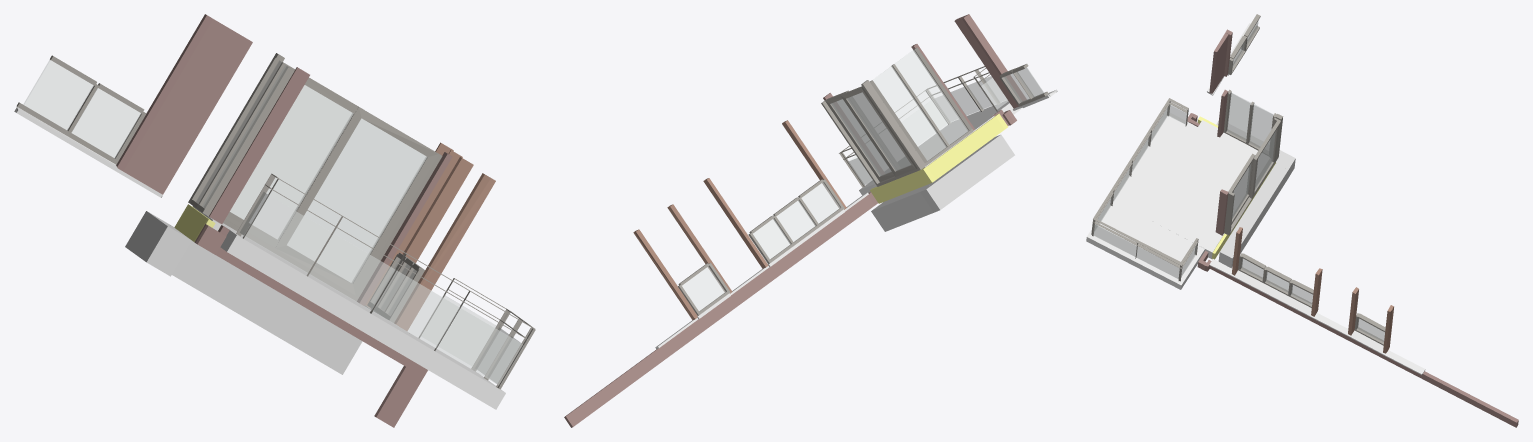
The picture shows the model from 3 angles, left to right: view 1: azimuth 30°, elevation 25°; view 2: azimuth 150°, elevation 25°; view 3: azimuth 270°, elevation 25°; orthographic projection. The views are drawn at different scales.
Parts seen in each view (by area): view 1: mesh; view 2: mesh; view 3: mesh.
Boxes of the visible parts, box(x1,y1,x2,y2) form: mesh: box(14, 14, 535, 427); mesh: box(564, 14, 1057, 427); mesh: box(1086, 14, 1518, 427).
Bounding box in the file's own units: 9.42 × 9.13 × 11.89.
